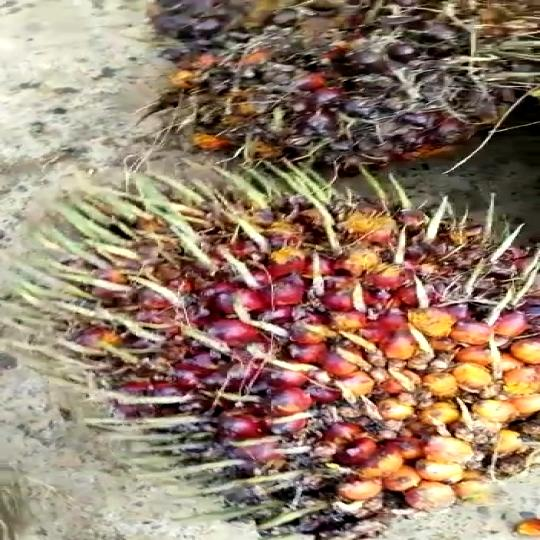masak: (31, 167, 540, 540)
